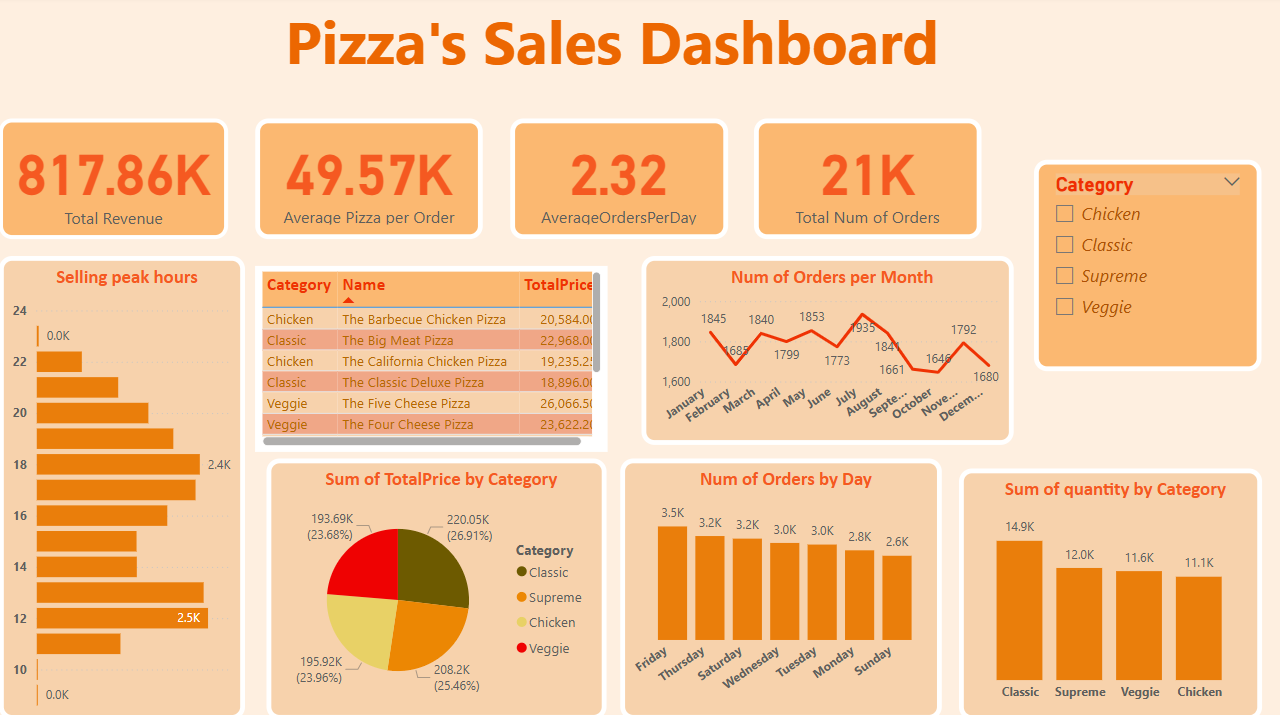

What the dashboard file says about the page in this screenshot:
{"tool":"powerbi","page":{"name":"Page 1","canvas":[1280,720],"ordinal":0},"visuals":[{"type":"card","fields":{"Values":["Sum(pizzas.TotalPrice)"]},"box":[0,121.7,228.3,120],"z":0},{"type":"card","fields":{"Values":["data_dictionary.AverageOrdersPerDay"]},"box":[508.3,121.7,216.7,120],"z":1000},{"type":"card","fields":{"Values":["data_dictionary.Average Pizza per Order"]},"box":[255,121.7,226.7,120],"z":2000},{"type":"tableEx","fields":{"Values":["pizza_types.Category","pizza_types.Name","pizzas.TotalPrice"]},"box":[255,268.3,350,185],"z":3000},{"type":"barChart","title":"Selling peak hours","fields":{"Y":["data_dictionary.Orders by Hour"],"Category":["orders.rder Hour"]},"box":[0,258.3,245,461.7],"z":5000},{"type":"columnChart","fields":{"Category":["pizza_types.Category"],"Y":["Sum(order_details.quantity)"]},"box":[955,470,301.7,250],"z":7000},{"type":"pieChart","fields":{"Category":["pizza_types.Category"],"Y":["Sum(pizzas.TotalPrice)"]},"box":[266.7,460,338.3,260],"z":8000},{"type":"lineChart","title":"Num of Orders per Month","fields":{"Category":["orders.date.Variation.Date Hierarchy.Month"],"Y":["CountNonNull(orders.order_id)"]},"box":[640,258.3,370,188.3],"z":9000},{"type":"slicer","fields":{"Values":["pizza_types.Category"]},"box":[1030,163.3,226.7,210],"z":10000},{"type":"card","fields":{"Values":["data_dictionary.Total Num of Orders"]},"box":[751.7,121.7,226.7,120],"z":12000},{"type":"textbox","box":[280,0,675,103.3],"z":13000},{"type":"columnChart","fields":{"Category":["orders.date - Copy"],"Y":["CountNonNull(orders.order_id)"]},"box":[618.3,460,320,260],"z":14000}]}

Visuals, with their boxes in screenshot pixels (x1, y1, x2, y2), scaled from the page's 1280x720 canvas onto the 1280x715 screenshot:
card - Sum(pizzas.TotalPrice): 0 121 228 240
card - data_dictionary.AverageOrdersPerDay: 508 121 725 240
card - data_dictionary.Average Pizza per Order: 255 121 482 240
tableEx - pizza_types.Category x pizza_types.Name: 255 266 605 450
"Selling peak hours" barChart: 0 257 245 714
columnChart - pizza_types.Category x Sum(order_details.quantity): 955 467 1257 714
pieChart - pizza_types.Category x Sum(pizzas.TotalPrice): 267 457 605 714
"Num of Orders per Month" lineChart: 640 257 1010 443
slicer - pizza_types.Category: 1030 162 1257 371
card - data_dictionary.Total Num of Orders: 752 121 978 240
textbox: 280 0 955 103
columnChart - orders.date - Copy x CountNonNull(orders.order_id): 618 457 938 714
